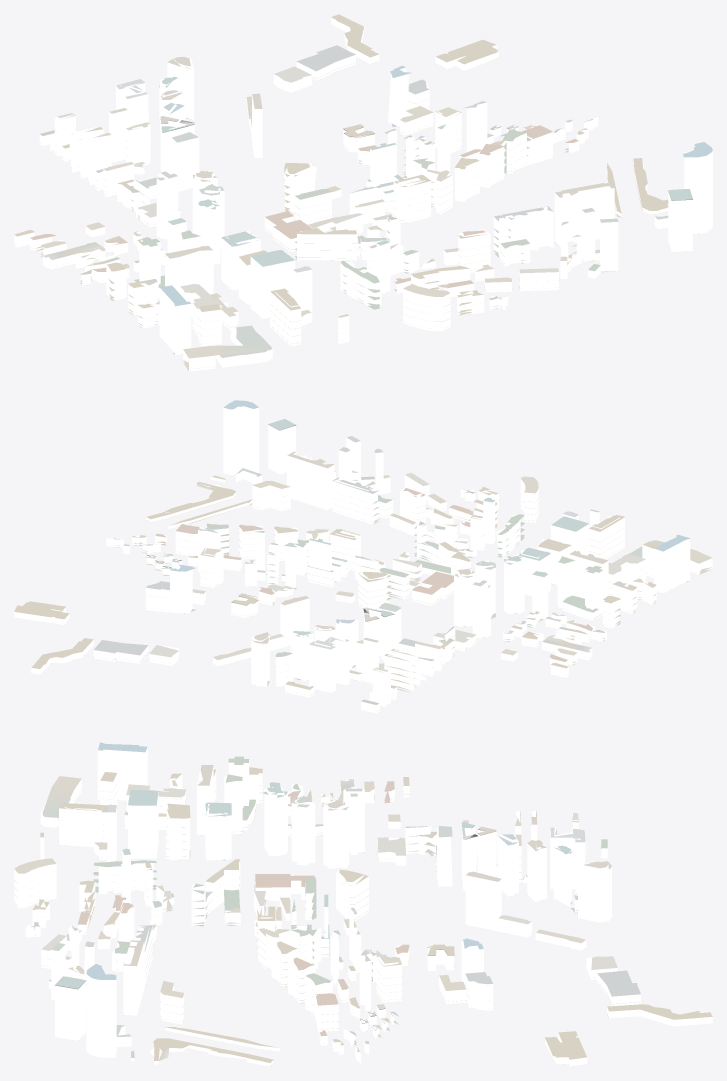
The model's file is buildings--10_-1-coarse.glb.
3 renders of one model, top to bottom at view 1: azimuth 30°, elevation 25°; view 2: azimuth 150°, elevation 25°; view 3: azimuth 270°, elevation 25°, orthographic. The views are drawn at different scales.
Visible parts, largest first — view 1: block_-10_-1_residential, block_-10_-1_office, block_-10_-1_roof; view 2: block_-10_-1_residential, block_-10_-1_office, block_-10_-1_roof; view 3: block_-10_-1_office, block_-10_-1_residential, block_-10_-1_roof.
Part boxes in pixels (box(x1,y1,x2,y2)): block_-10_-1_residential: box(14, 17, 668, 371); block_-10_-1_office: box(109, 59, 712, 367); block_-10_-1_roof: box(14, 14, 712, 370); block_-10_-1_residential: box(14, 470, 712, 713); block_-10_-1_office: box(170, 401, 690, 692); block_-10_-1_roof: box(14, 400, 711, 711); block_-10_-1_office: box(40, 747, 611, 1057); block_-10_-1_residential: box(14, 770, 712, 1066); block_-10_-1_roof: box(14, 742, 712, 1066).
Bounding box in the file's own units: 650 × 91.02 × 692.
